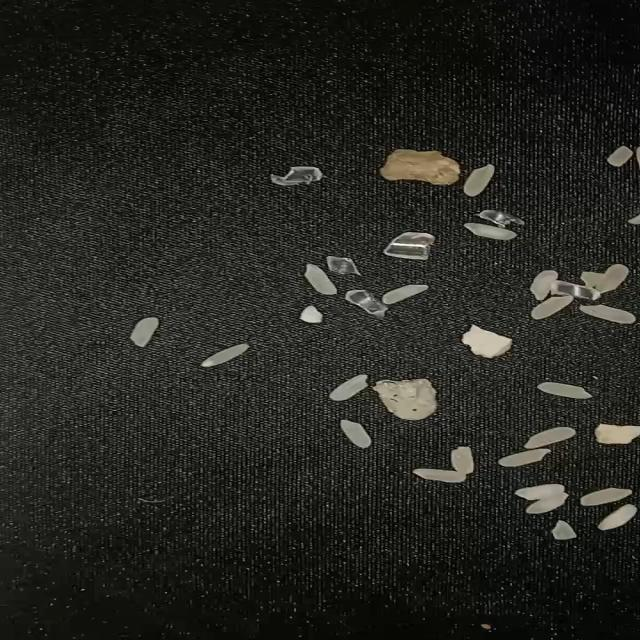Broken: (606, 145, 634, 167), (551, 520, 577, 540), (300, 304, 324, 324), (580, 271, 606, 289)
Full: (199, 342, 253, 370), (524, 426, 578, 449), (575, 304, 637, 324), (462, 162, 496, 198), (328, 372, 368, 402), (525, 492, 575, 516), (498, 447, 554, 468), (597, 504, 638, 532), (535, 380, 592, 400), (578, 487, 635, 507), (303, 264, 338, 296), (130, 316, 164, 348), (532, 296, 577, 320), (382, 284, 431, 305), (341, 417, 372, 449), (598, 263, 631, 293), (463, 222, 518, 240), (530, 269, 558, 301), (516, 484, 566, 501), (412, 468, 468, 483), (450, 445, 476, 475)
